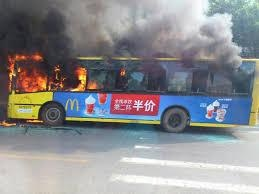fire: (2, 52, 78, 122)
